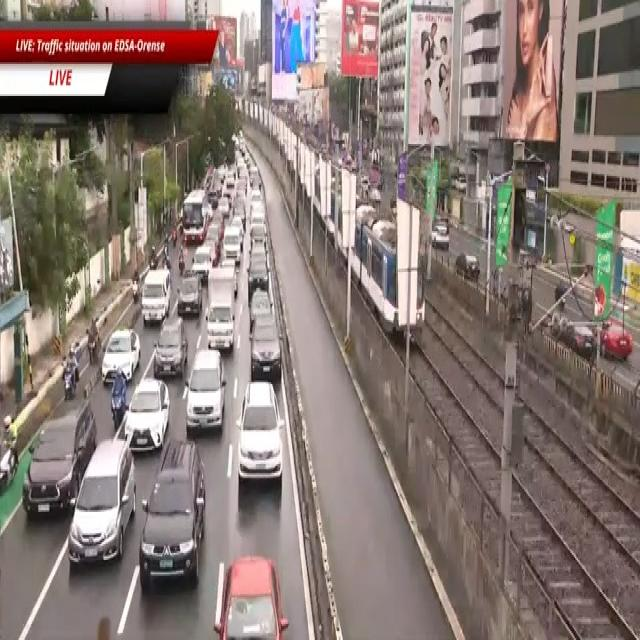car: (138, 441, 207, 601), (22, 393, 96, 528), (67, 439, 137, 565), (234, 375, 285, 493), (184, 346, 225, 434), (119, 379, 171, 448), (150, 311, 188, 386), (97, 327, 141, 379), (251, 315, 281, 384), (141, 263, 168, 322), (249, 260, 272, 290)
motorbike: (100, 368, 129, 432), (0, 413, 22, 497), (59, 336, 84, 398), (85, 308, 101, 368)
truck: (204, 265, 241, 353)
